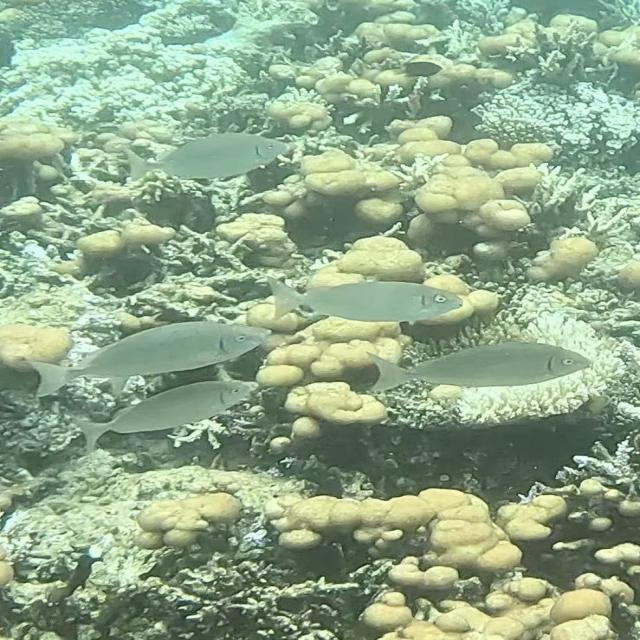Sokar Baligi: (65, 372, 278, 463), (356, 330, 611, 403), (260, 268, 475, 326), (115, 132, 299, 188)
